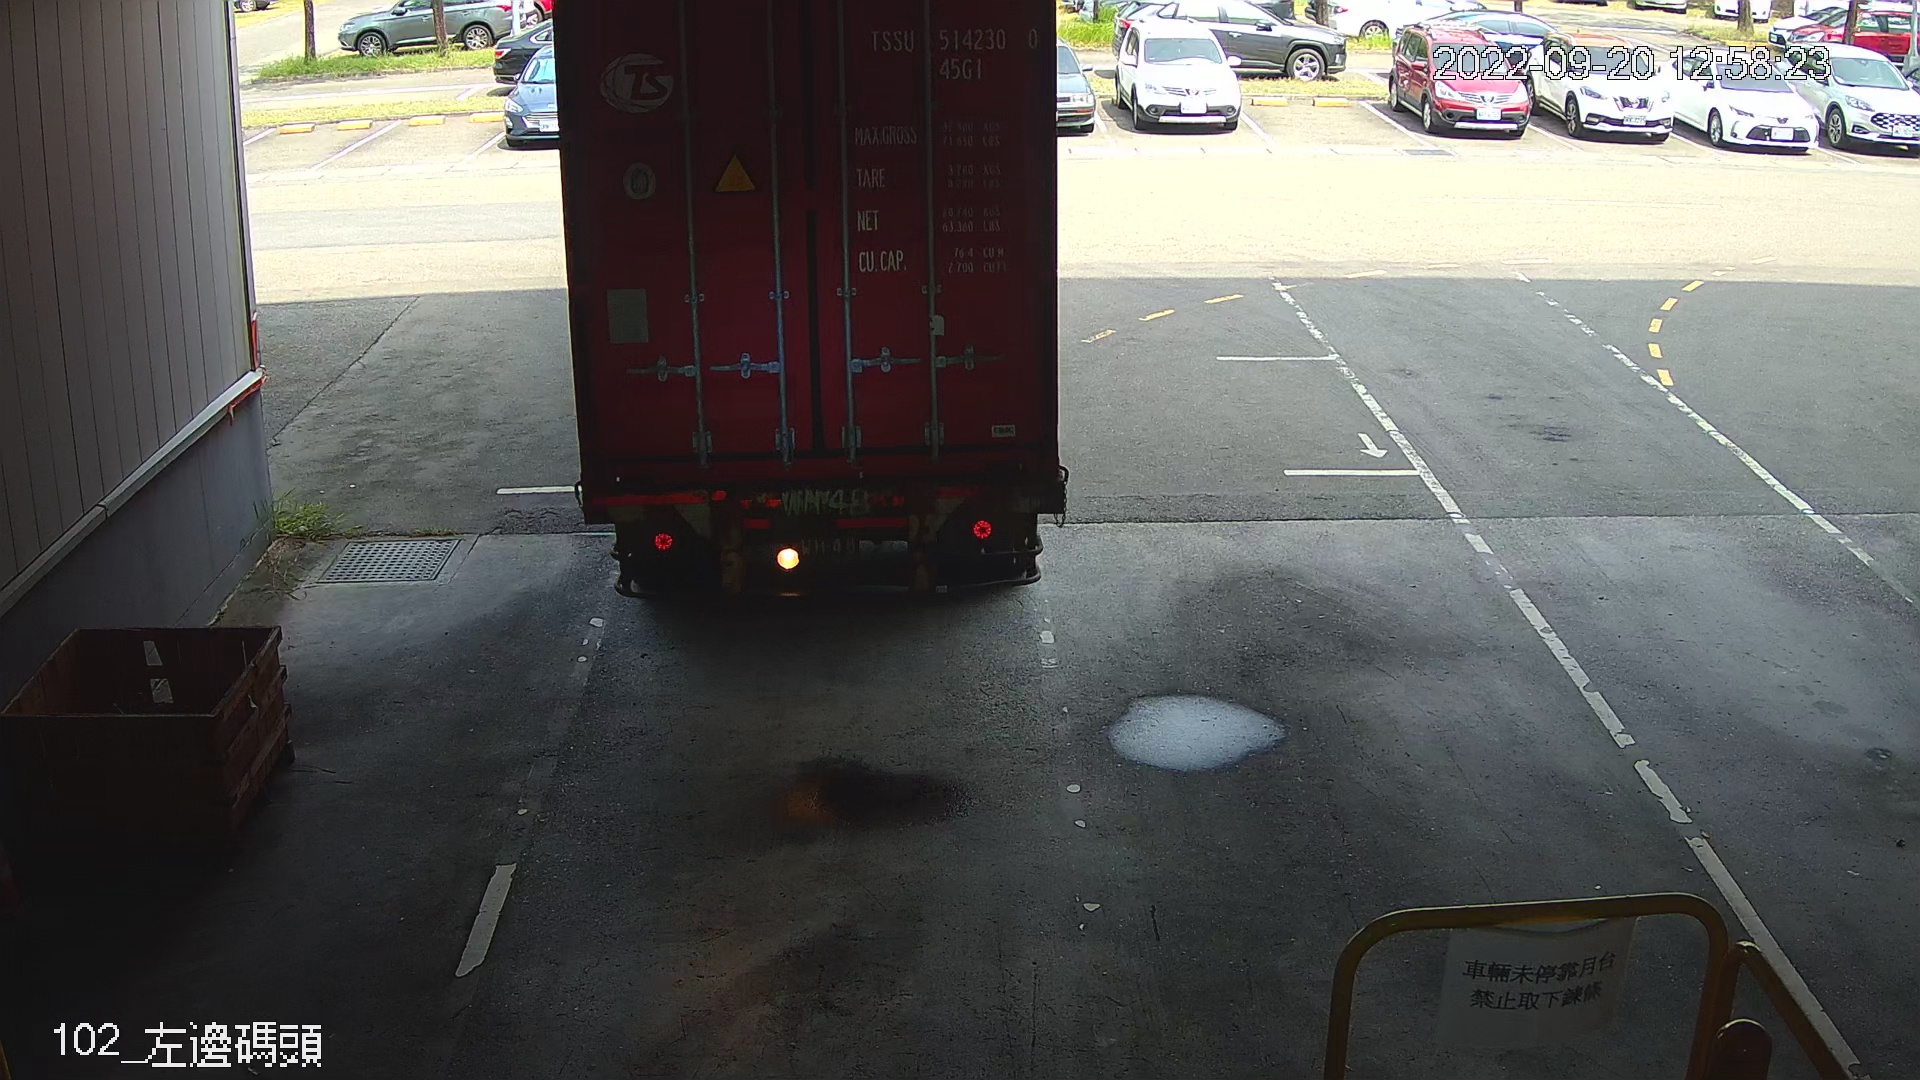container: (862, 18, 1048, 88)
